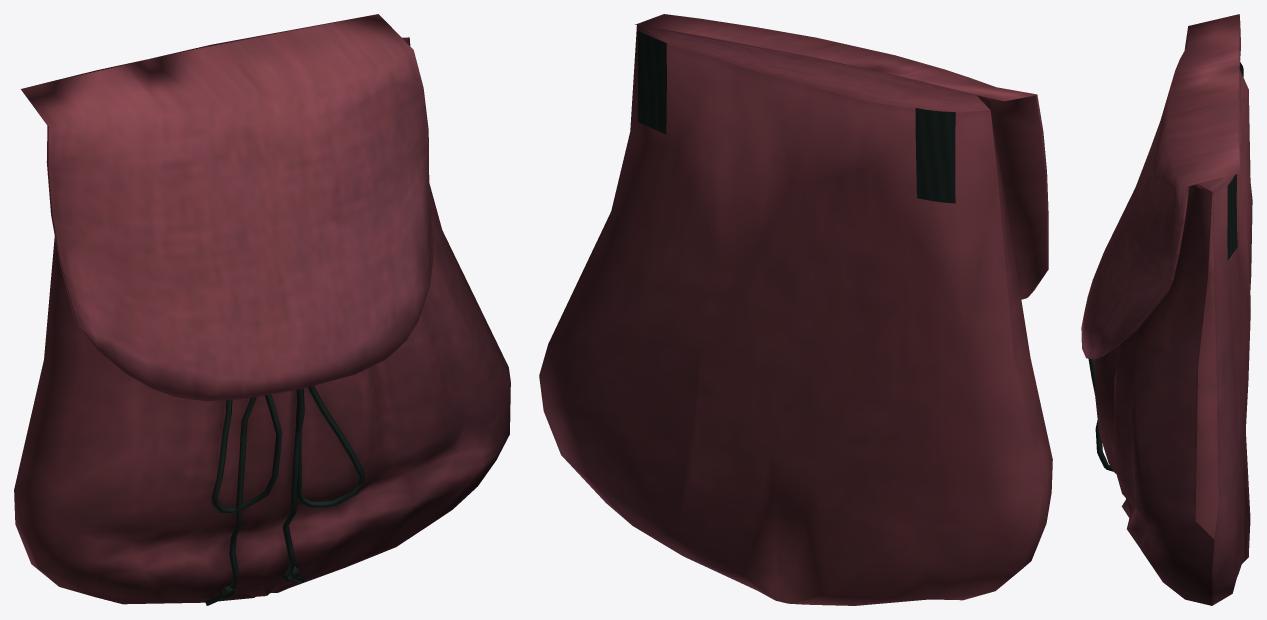
The model's file is BurgundyClothPouchLow.glb.
The picture shows the model from 3 angles, left to right: view 1: azimuth 30°, elevation 25°; view 2: azimuth 150°, elevation 25°; view 3: azimuth 270°, elevation 25°; orthographic projection. The views are drawn at different scales.
Parts seen in each view (by area): view 1: Burgundy cloth pouch WoW low; view 2: Burgundy cloth pouch WoW low; view 3: Burgundy cloth pouch WoW low.
Part boxes in pixels (x1,y1,x2,y2): Burgundy cloth pouch WoW low: [14, 14, 510, 605]; Burgundy cloth pouch WoW low: [539, 14, 1052, 605]; Burgundy cloth pouch WoW low: [1081, 14, 1252, 605].
Bounding box in the file's own units: 0.964 × 1.01 × 0.3439.
1 material, 1 textured.
